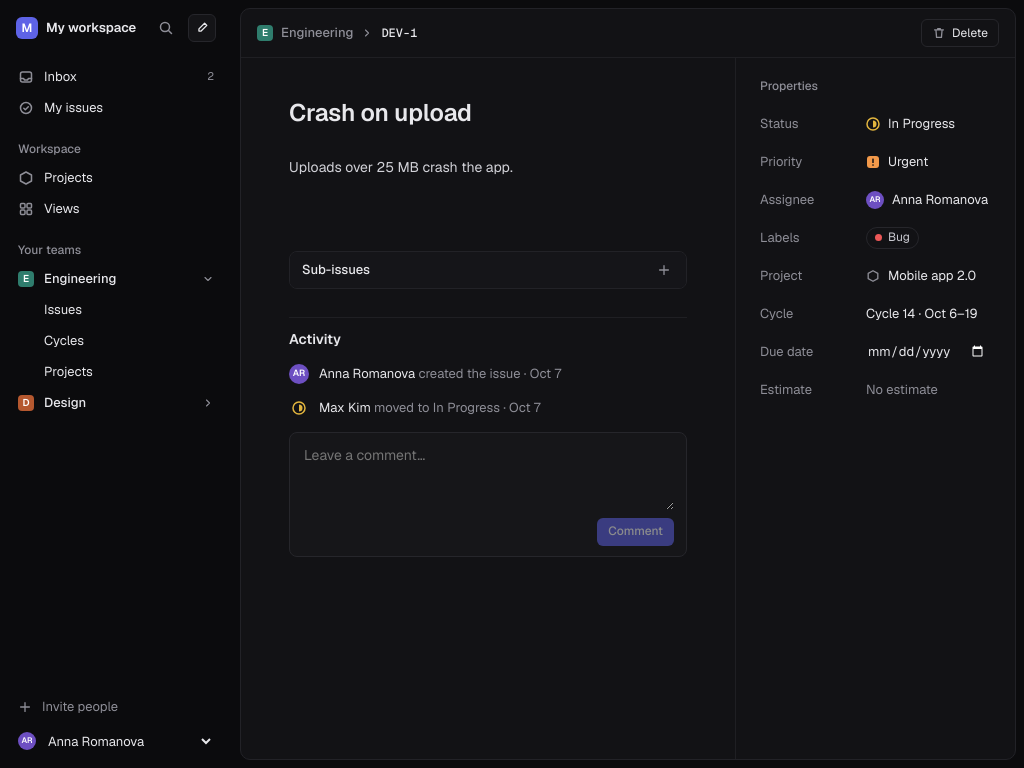
it: IssuePage › posts a comment
Type "Looks good" into the text box labelled "comment". click: [488, 476]
box: [302,443,674,510]
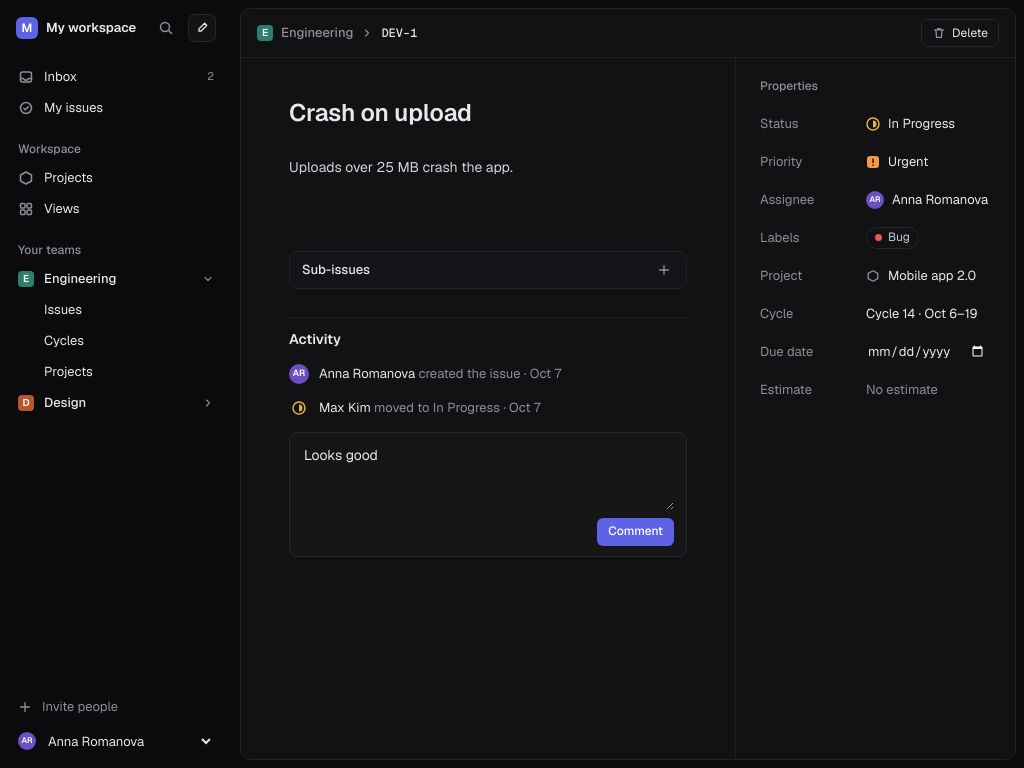
Click the button "Comment". click: [636, 532]
box: [597,518,674,546]
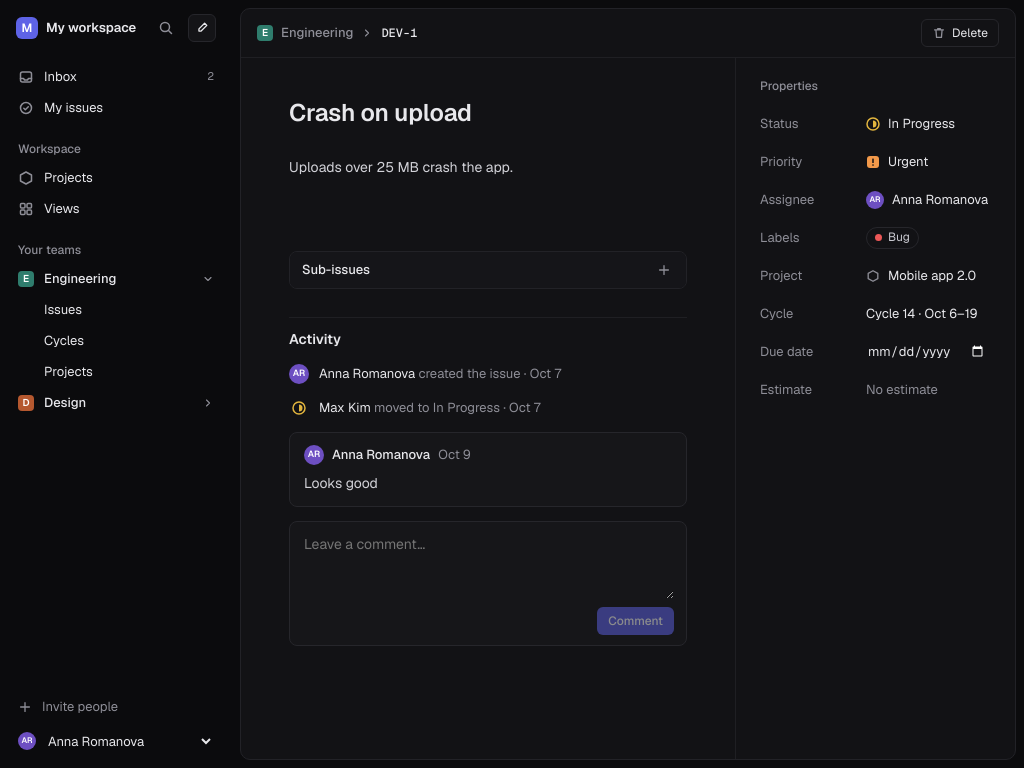
Check: the text "Looks good" is shown, box [304,474,378,492]
Check: the text box labelled "comment" is empty, box [302,532,674,600]
